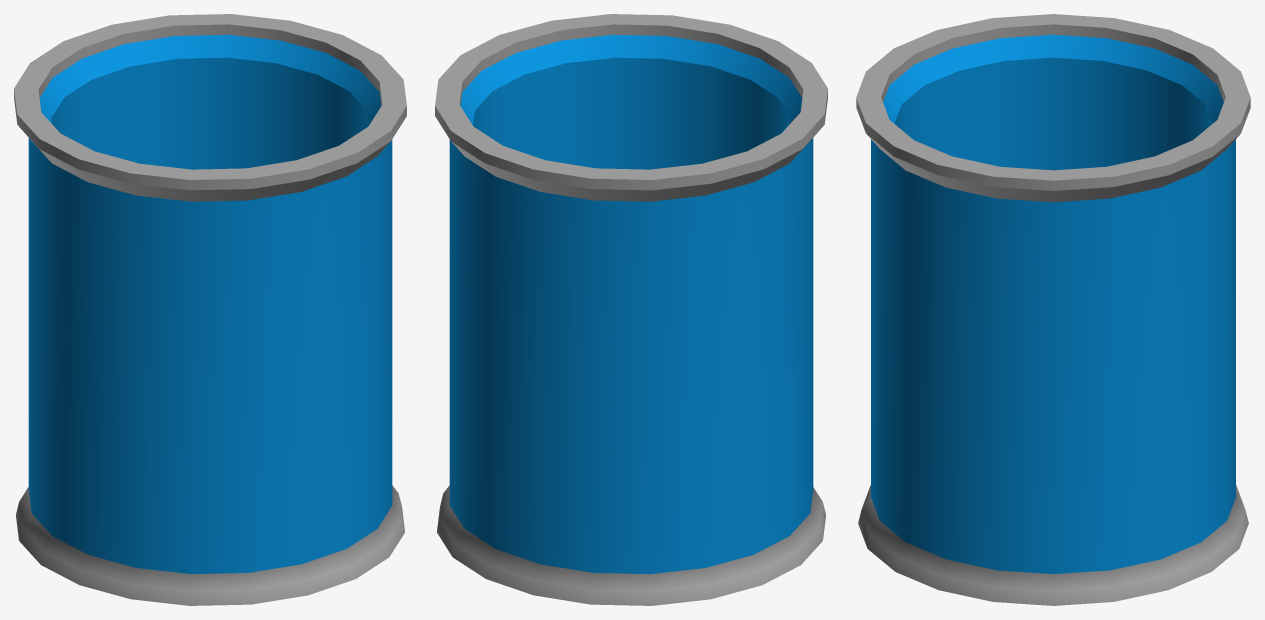
File: PencilHolder 1.fbx
3 views of the same model, side by side, from view 1: azimuth 30°, elevation 25°; view 2: azimuth 150°, elevation 25°; view 3: azimuth 270°, elevation 25° (orthographic).
Visible parts, largest first — view 1: Pencil_Holder; view 2: Pencil_Holder; view 3: Pencil_Holder.
Boxes of the visible parts, <box> form: Pencil_Holder: <box>14,14,406,605</box>; Pencil_Holder: <box>435,14,827,605</box>; Pencil_Holder: <box>856,14,1250,605</box>.
Size of the model in its own units: 0.117 by 0.1394 by 0.117.
